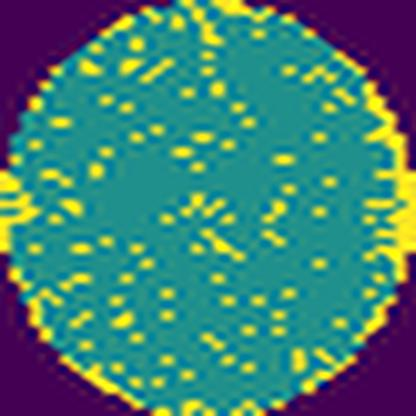Edge-Loc: (351, 82, 415, 287), (0, 170, 40, 253)
